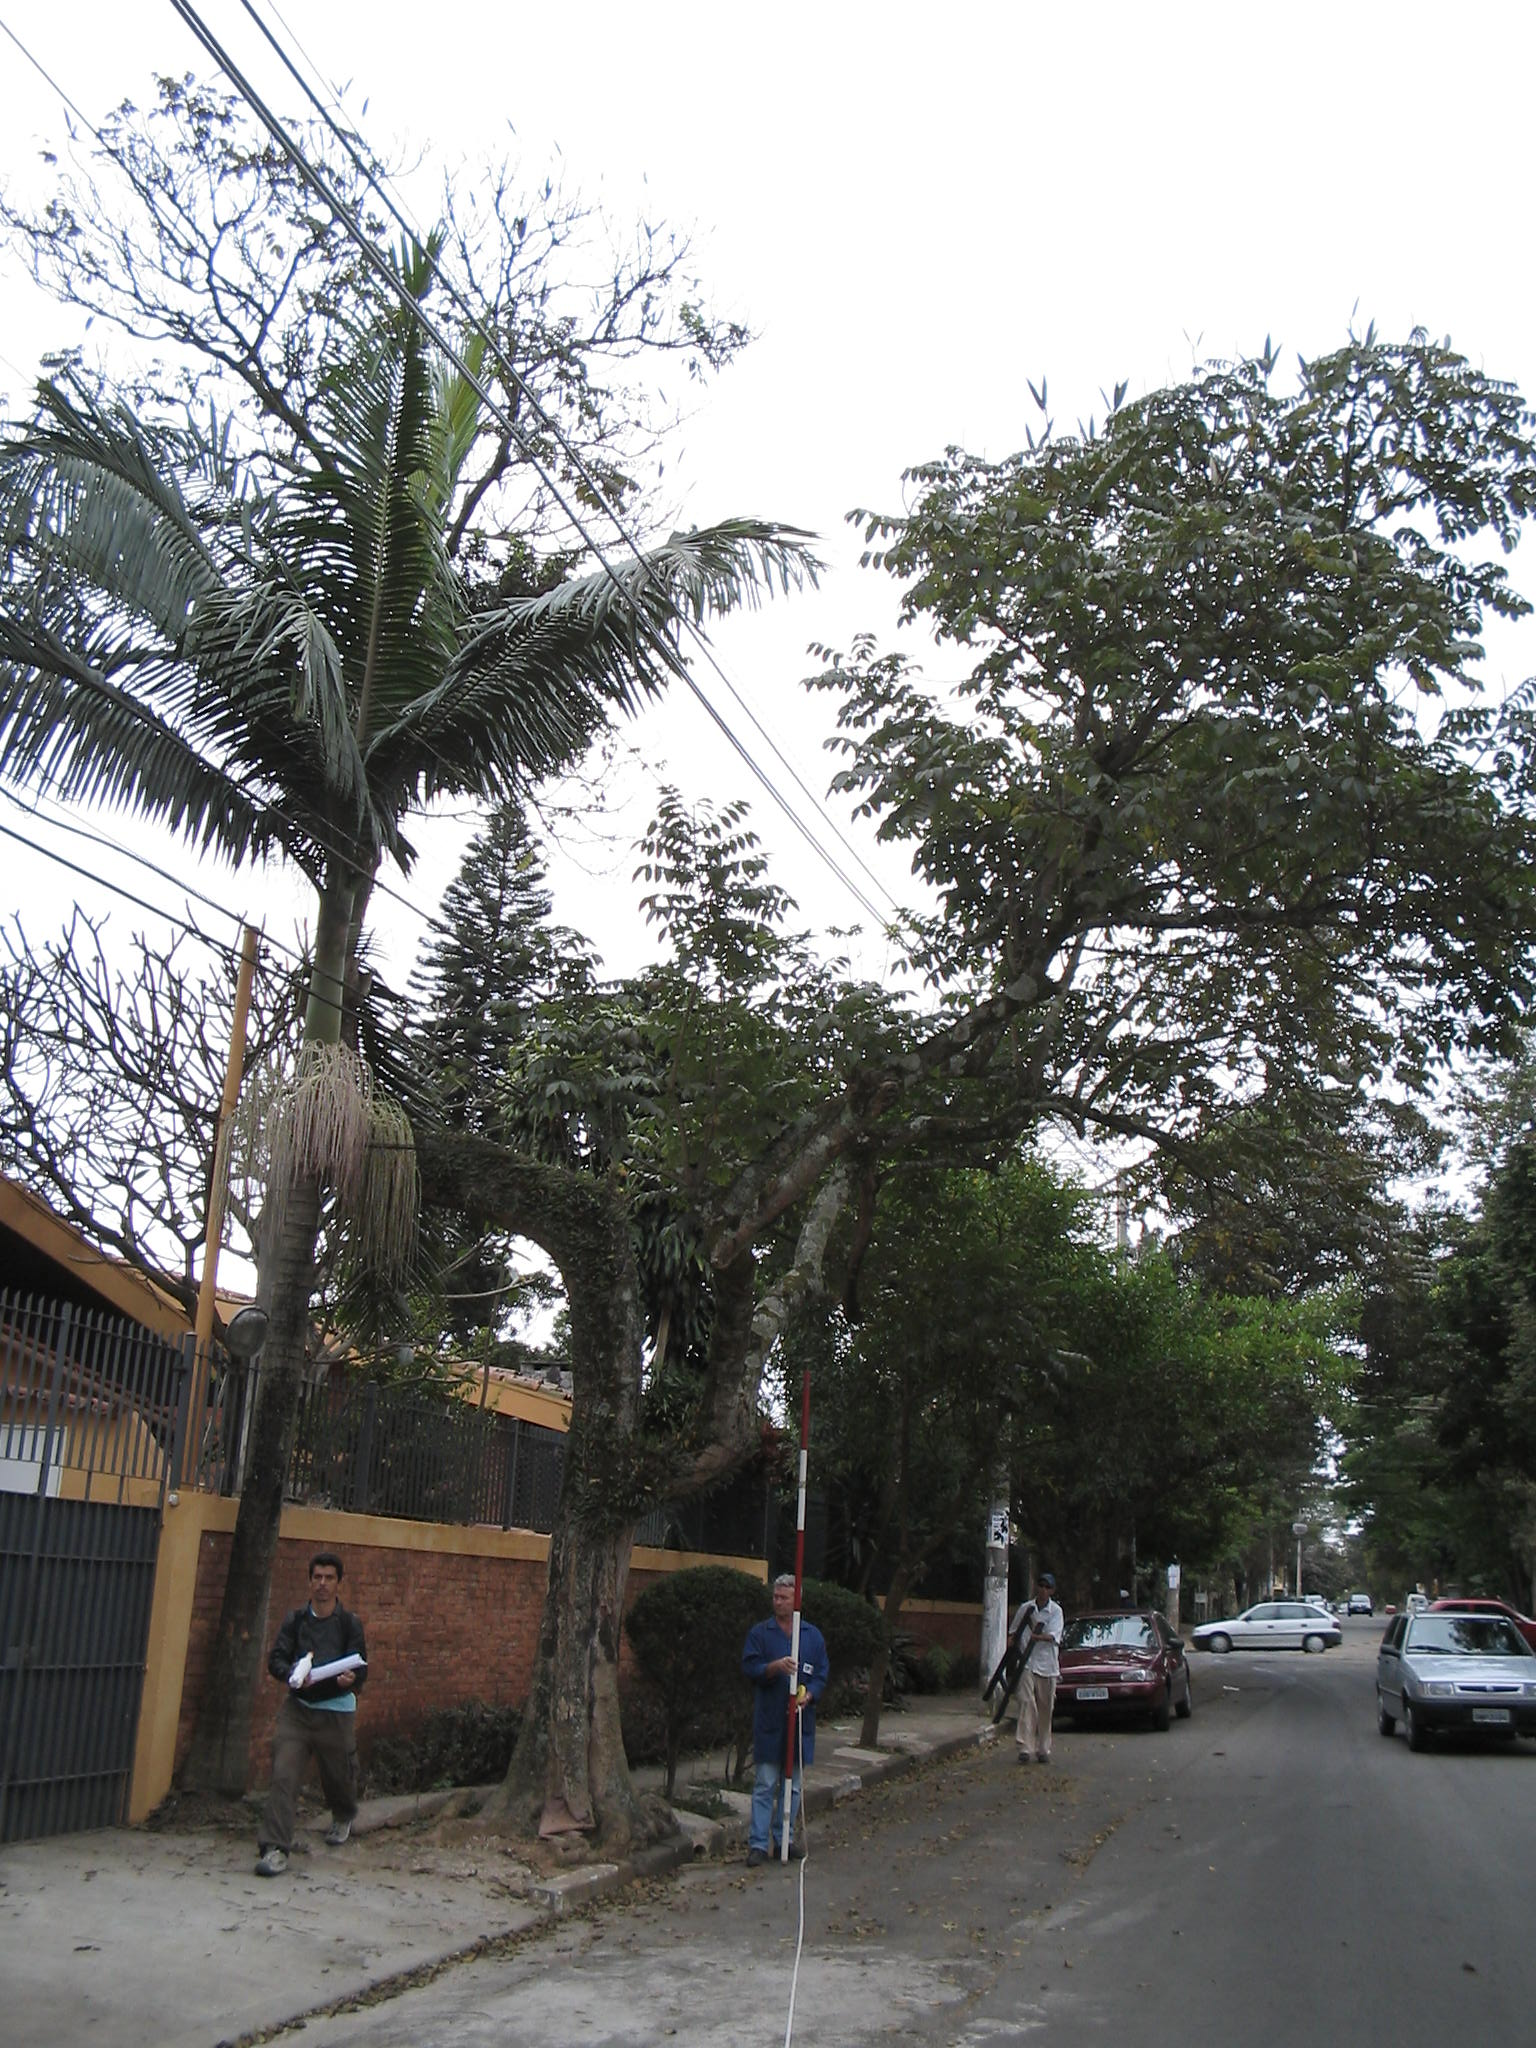crown: (15, 245, 815, 905)
stem: (152, 913, 399, 1804), (466, 1495, 686, 1854)
stick: (752, 1367, 837, 1866)
tree: (399, 300, 1530, 1863), (10, 237, 821, 1832)
